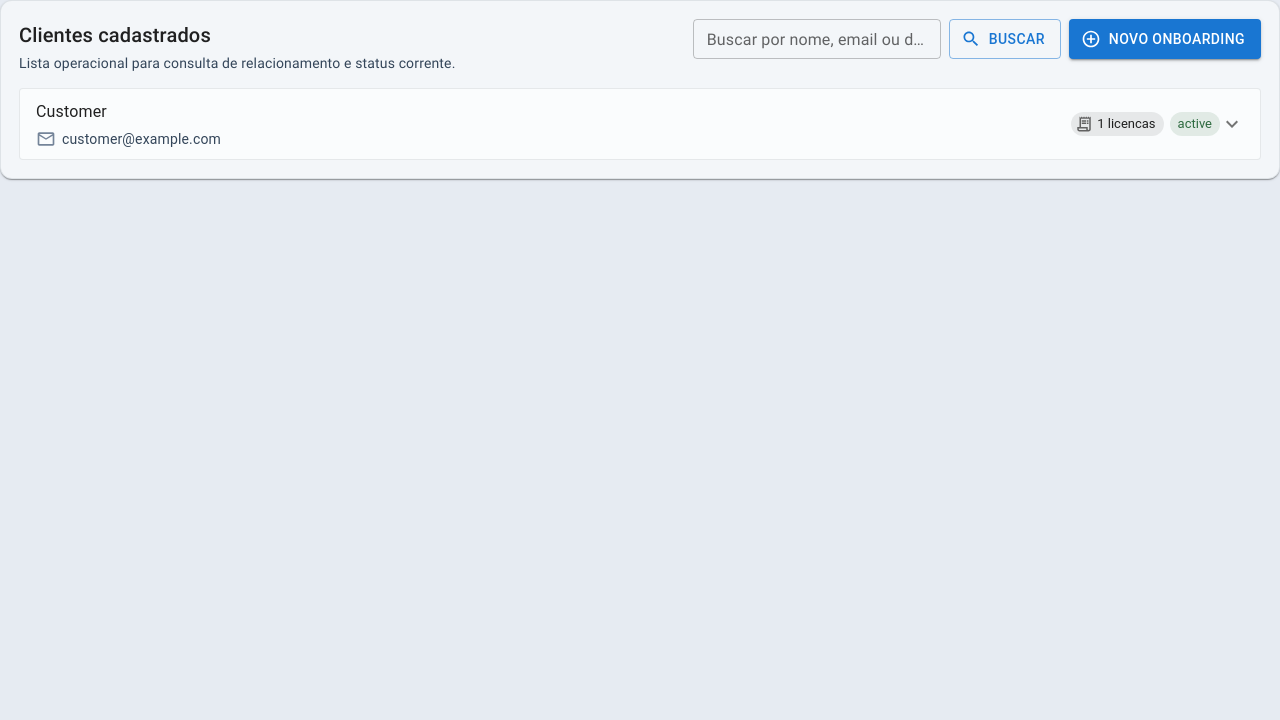
Scenario: CustomersPanel › expands customer accordion and renders license detail
Click the heading "Customer": click(71, 112) [36,102,107,121]
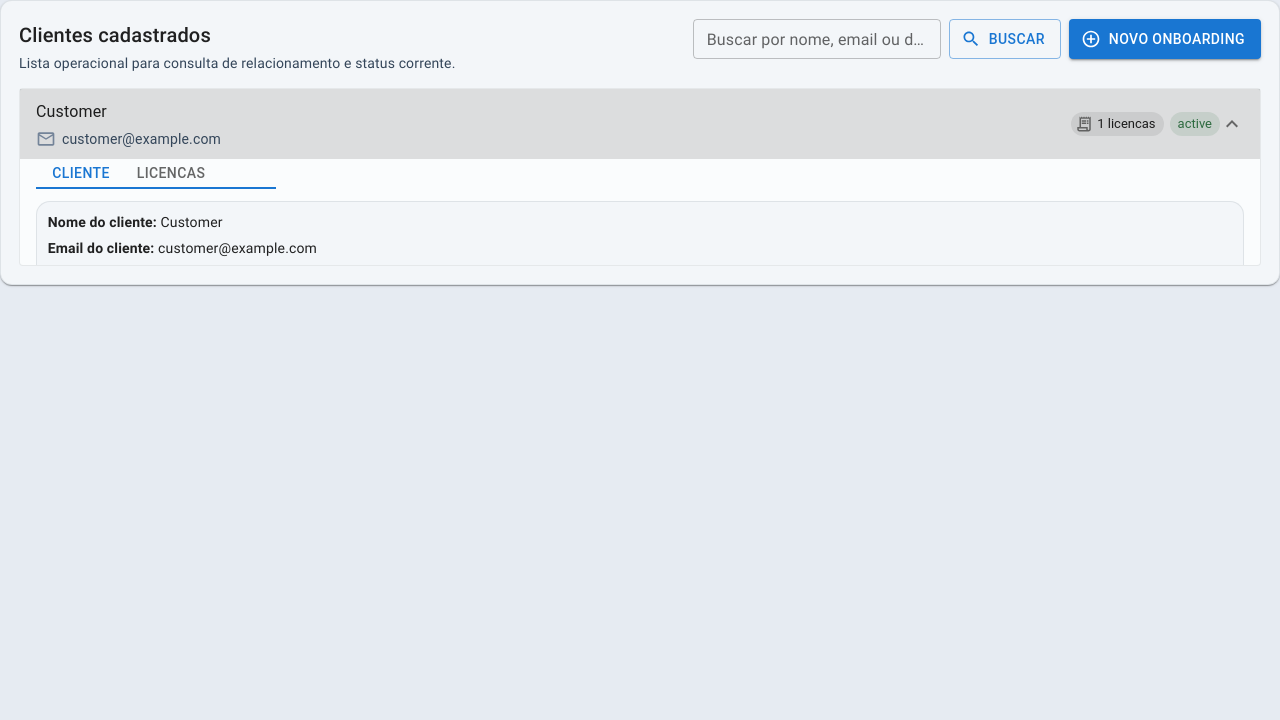
Click the tab "Licencas": click(171, 174) [126,159,216,189]
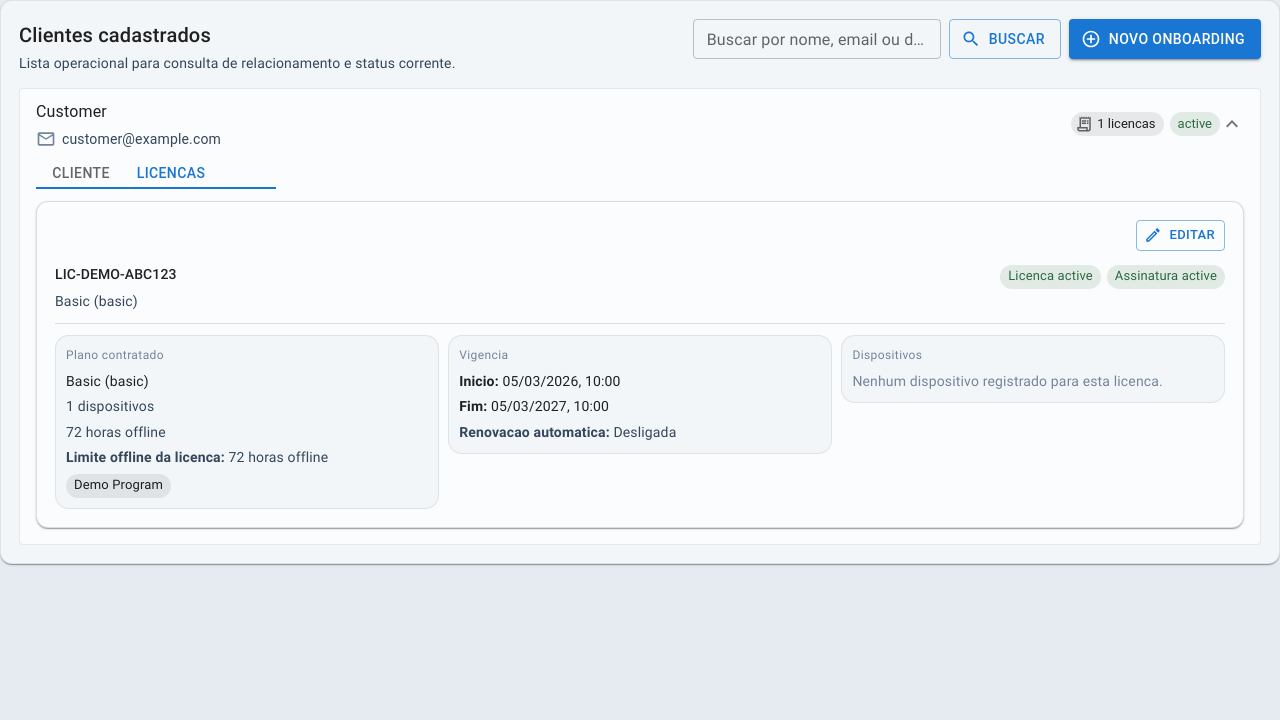
Check: the heading "LIC-DEMO-ABC123" is shown, box [55,265,176,287]
Check: the text "Basic (basic)" below "LIC-DEMO-ABC123" is shown, box [55,294,138,310]
